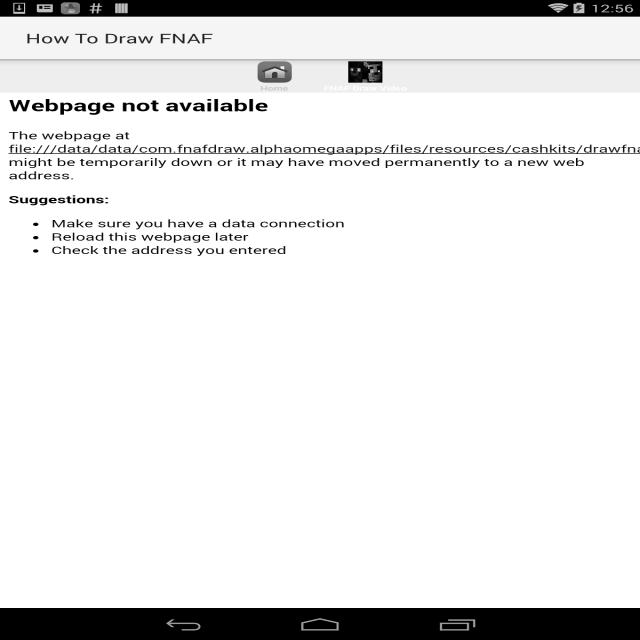ImageView: (249, 61, 300, 83), (340, 61, 391, 83)
TextView: (26, 29, 213, 47), (324, 83, 407, 93), (260, 83, 289, 93)
